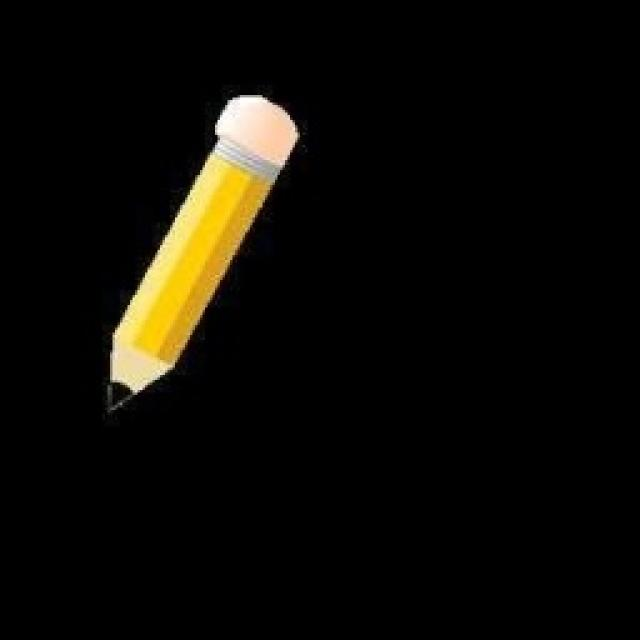pencil: (95, 88, 303, 418)
